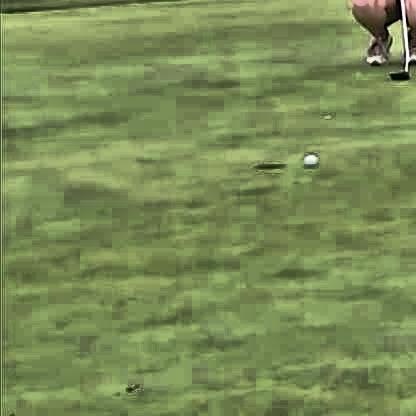golfball: (300, 151, 313, 164)
